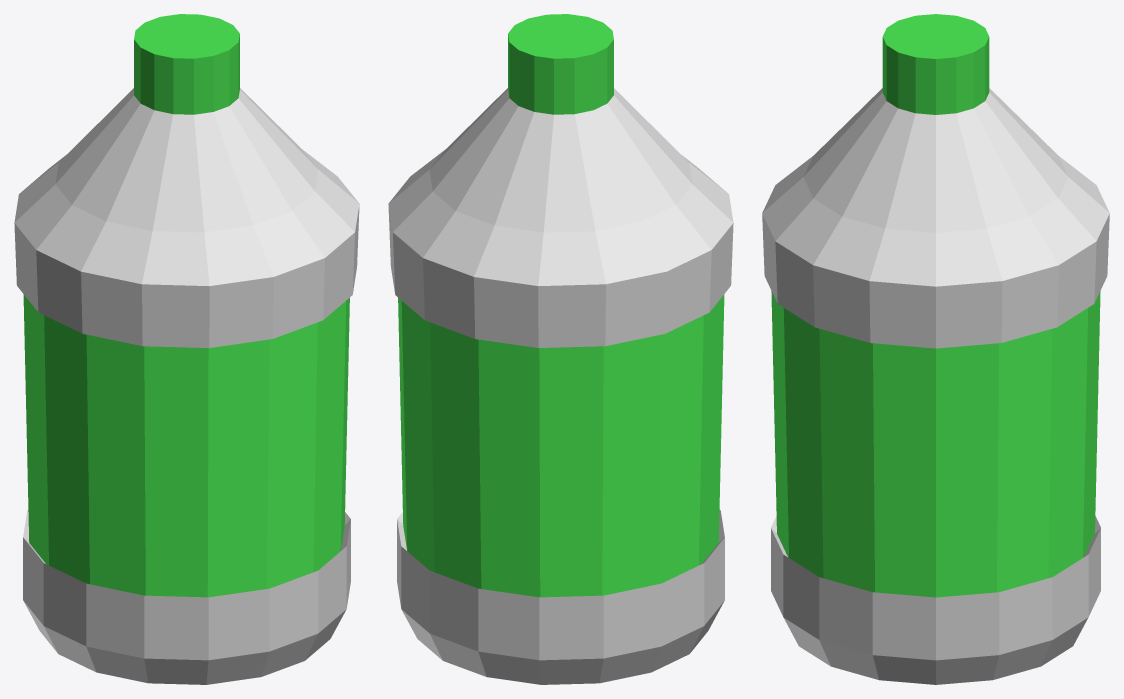
The model's file is green_bottle.glb.
The picture shows the model from 3 angles, left to right: view 1: azimuth 30°, elevation 25°; view 2: azimuth 150°, elevation 25°; view 3: azimuth 270°, elevation 25°; orthographic projection.
Parts seen in each view (by area): view 1: Cylinder.012; view 2: Cylinder.012; view 3: Cylinder.012.
Part boxes in pixels (x1,y1,x2,y2): Cylinder.012: (14,14,359,684); Cylinder.012: (388,14,733,684); Cylinder.012: (762,14,1109,684).
Size of the model in its own units: 3.5 by 6.51 by 3.5.
